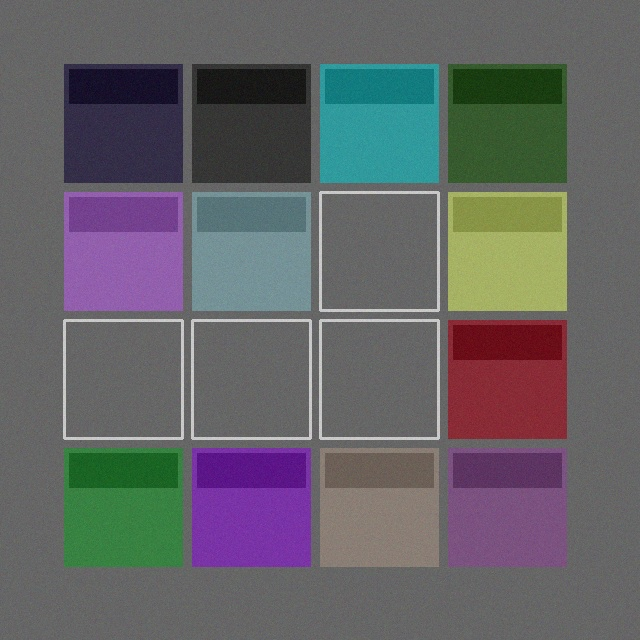space-empty: (320, 192, 438, 310), (64, 320, 182, 438), (192, 320, 310, 438), (320, 320, 438, 438)
space-occupied: (64, 64, 182, 182), (192, 64, 310, 182), (320, 64, 438, 182), (448, 64, 566, 182), (64, 192, 182, 310), (192, 192, 310, 310), (448, 192, 566, 310), (448, 320, 566, 438), (64, 448, 182, 566), (192, 448, 310, 566), (320, 448, 438, 566), (448, 448, 566, 566)
